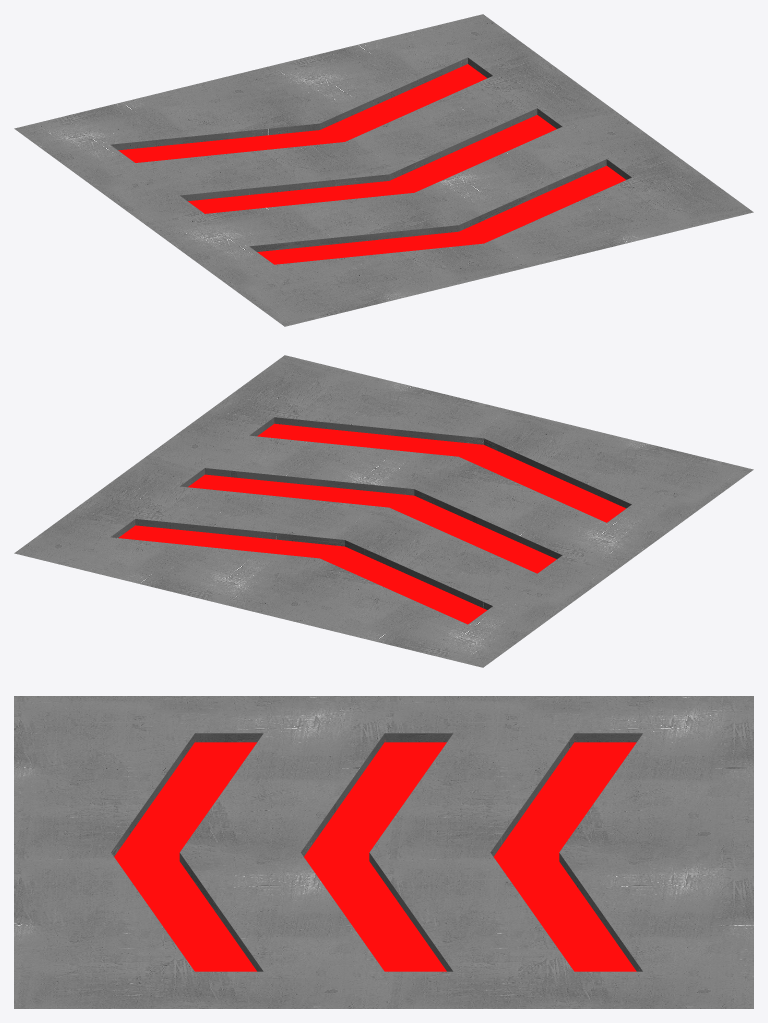
File: slowdown.glb
The picture shows the model from 3 angles, top to bottom: view 1: azimuth 30°, elevation 25°; view 2: azimuth 150°, elevation 25°; view 3: azimuth 270°, elevation 25°; orthographic projection. The views are drawn at different scales.
Parts seen in each view (by area): view 1: tile; view 2: tile; view 3: tile.
Boxes of the visible parts, x1,y1,x2,y2 form: tile: [14, 14, 753, 326]; tile: [14, 355, 753, 667]; tile: [14, 696, 753, 1008].
Size of the model in its own units: 3.9 by 0.0516 by 3.9.
Materials: 1 (1 with a texture image).
